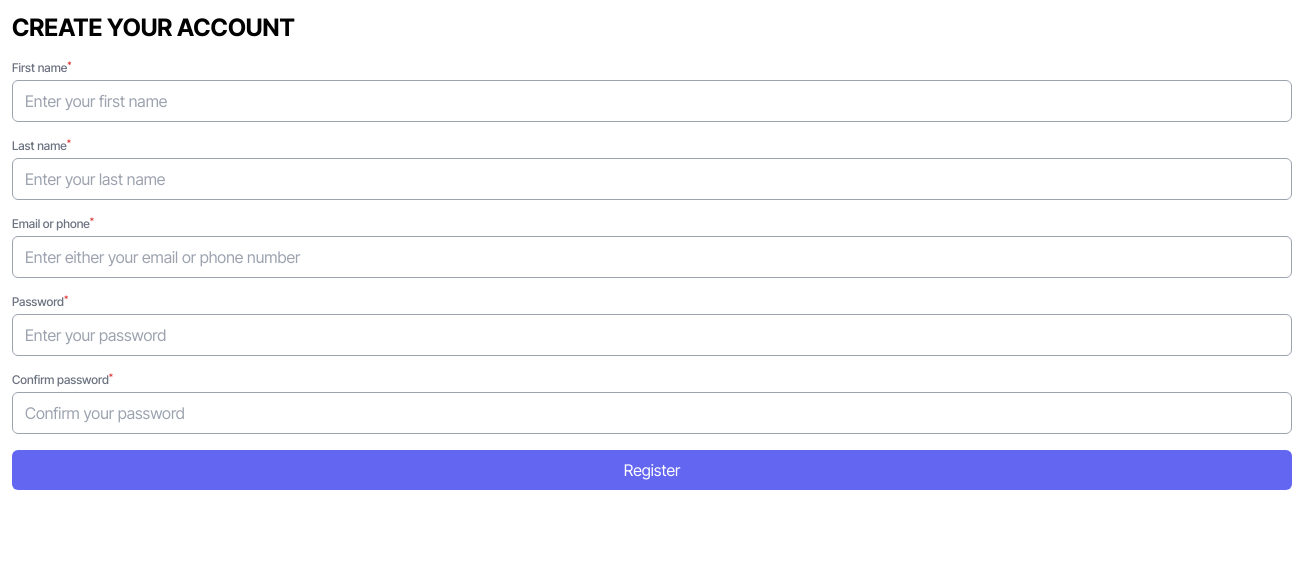
Test: RegisterForm › should display error message when passwords do not match
The width and height of the screenshot is (1304, 587).
Type "qwerQWER1234!@" into the password field with test id "password-input" at (652, 335), box [12, 314, 1292, 356]
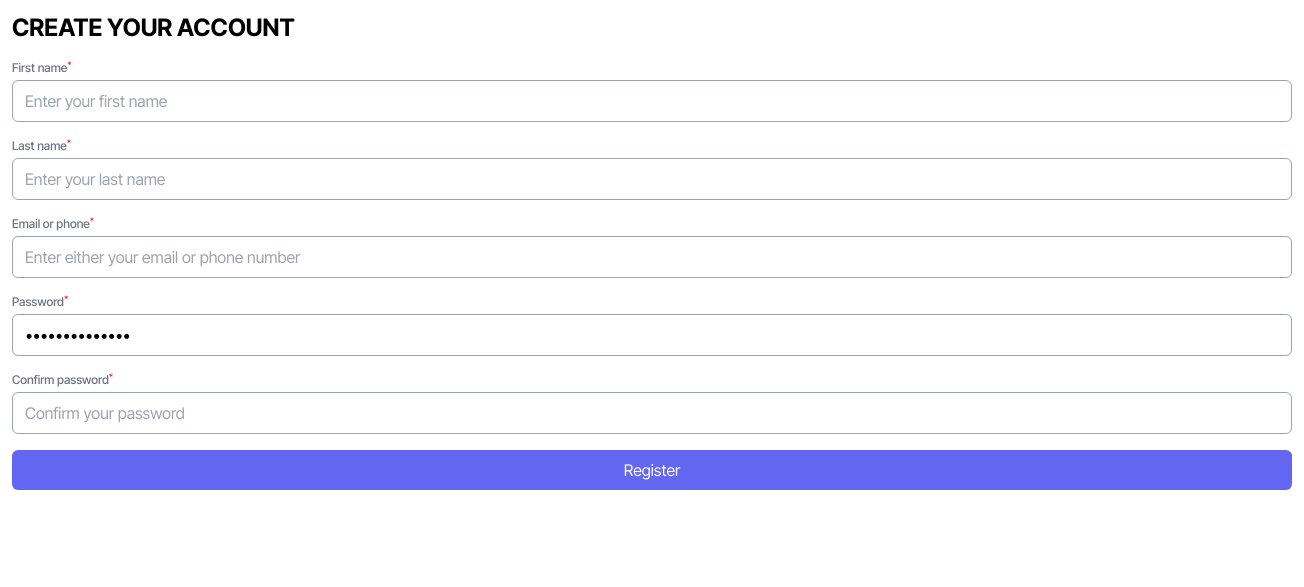
Type "qwerQWER1234!@@" into the password field with test id "confirm-password-input" at (652, 413), box [12, 392, 1292, 434]
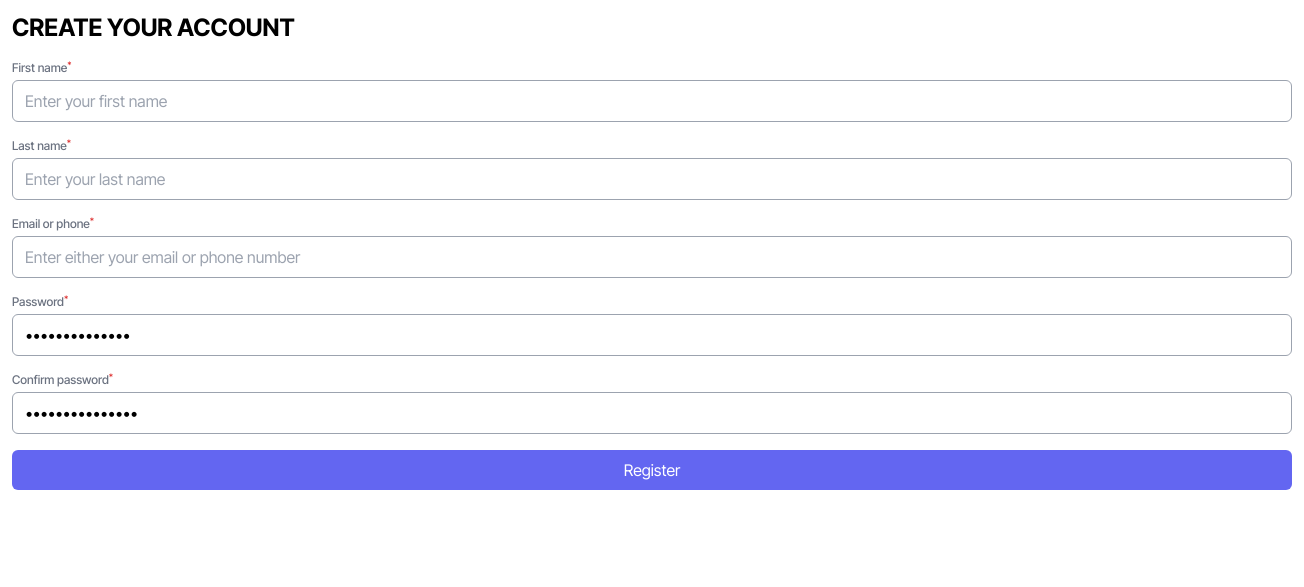
Click the button with test id "submit-button" at (652, 470), box [12, 450, 1292, 490]
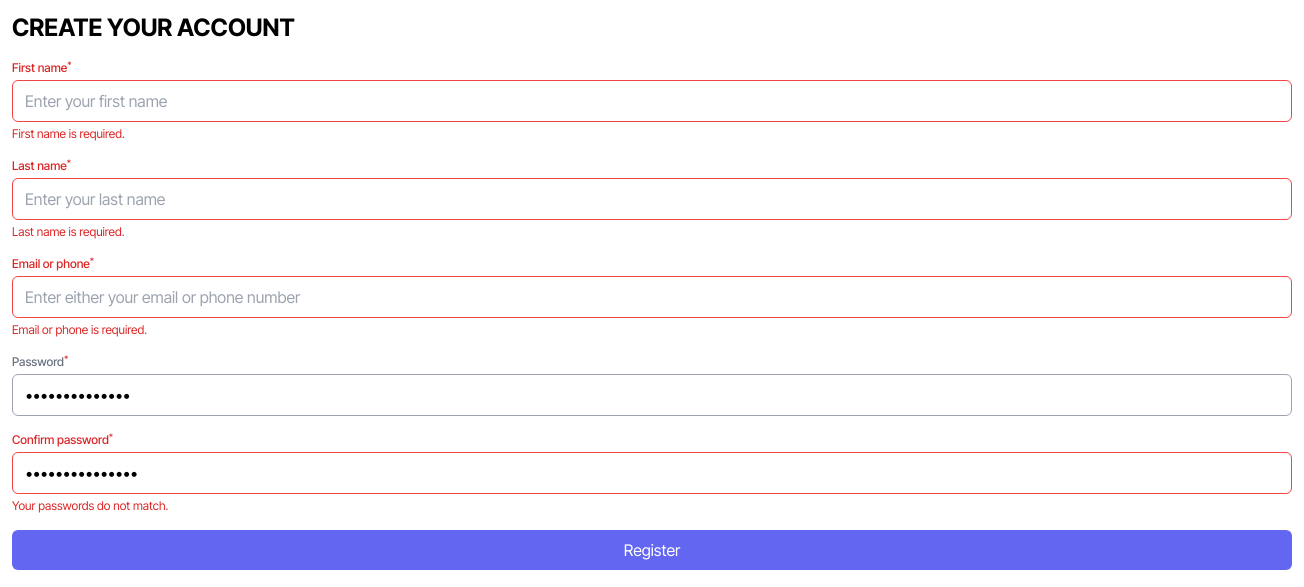
expect the text "Your passwords do not match." is shown: met, box [12, 498, 168, 513]
